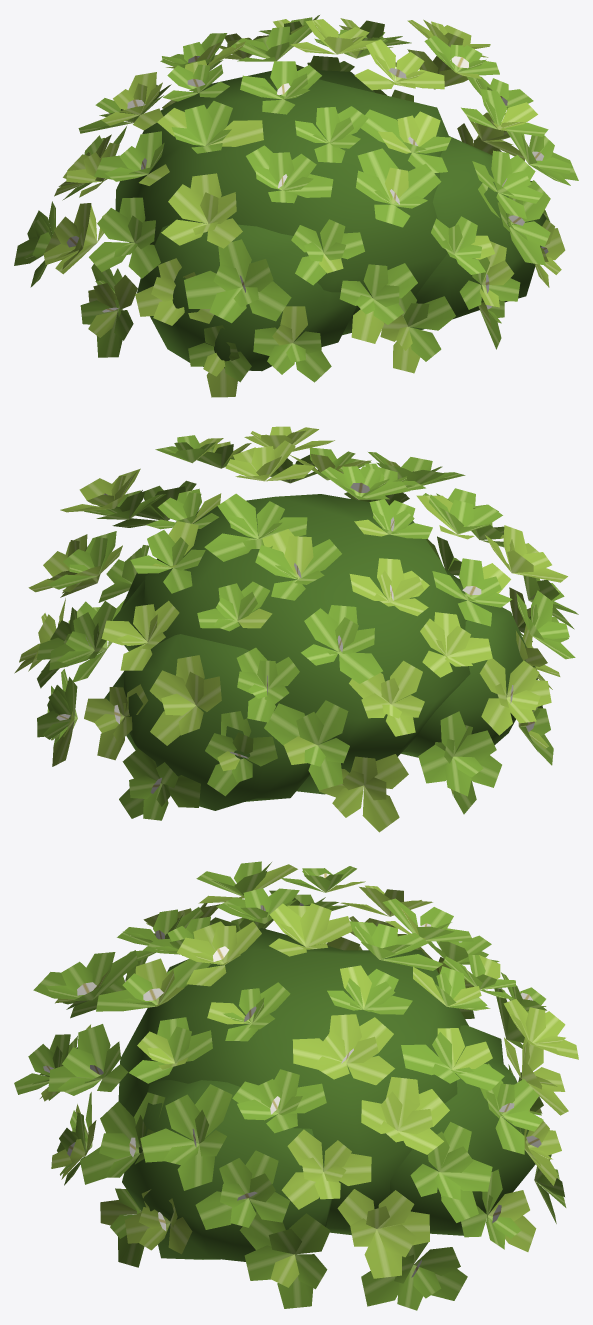
The picture shows the model from 3 angles, top to bottom: view 1: azimuth 30°, elevation 25°; view 2: azimuth 150°, elevation 25°; view 3: azimuth 270°, elevation 25°; orthographic projection. The views are drawn at different scales.
Parts seen in each view (by area): view 1: foliage; view 2: foliage; view 3: foliage.
Boxes of the visible parts, x1,y1,x2,y2 form: foliage: (14, 15, 578, 397); foliage: (14, 426, 578, 832); foliage: (14, 861, 578, 1310).
Bounding box in the file's own units: 2.45 × 1.43 × 2.27.
Materials: 1 (1 with a texture image).
